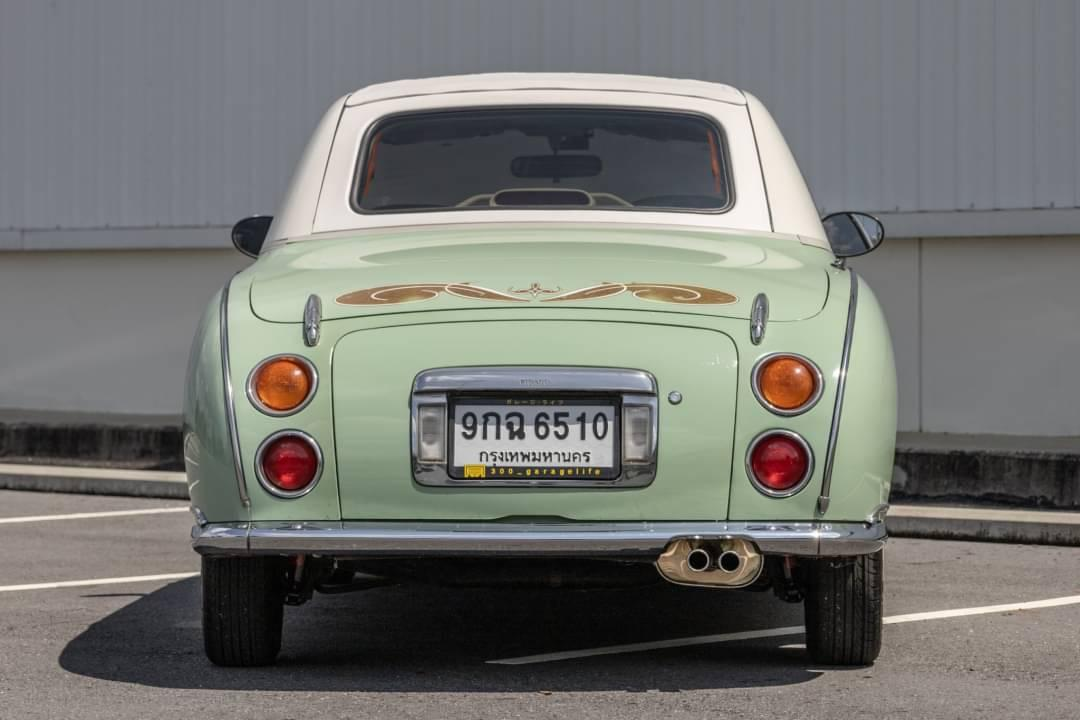license-plate: (446, 392, 623, 481)
